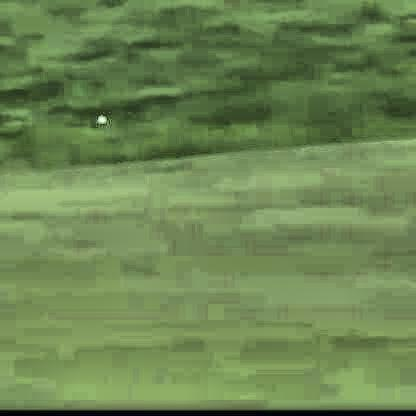golfball: (93, 114, 104, 124)
